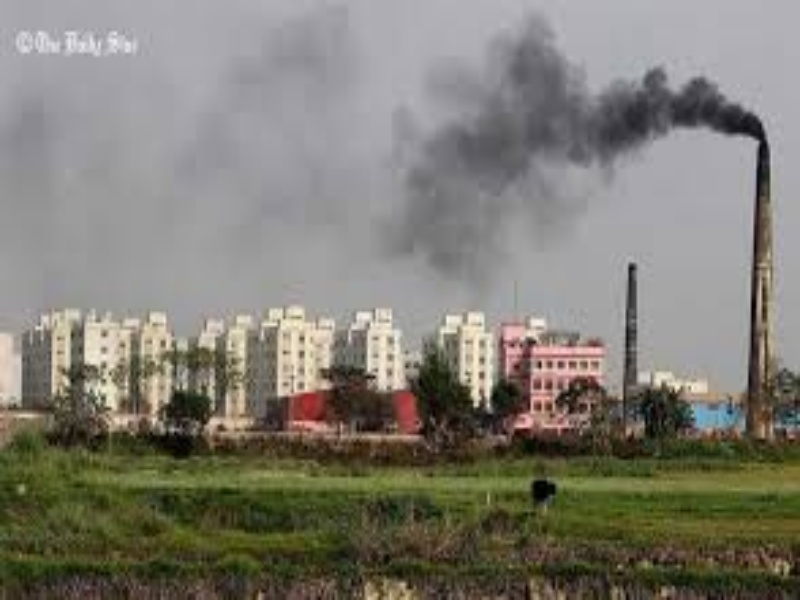smoke: (437, 66, 761, 137)
